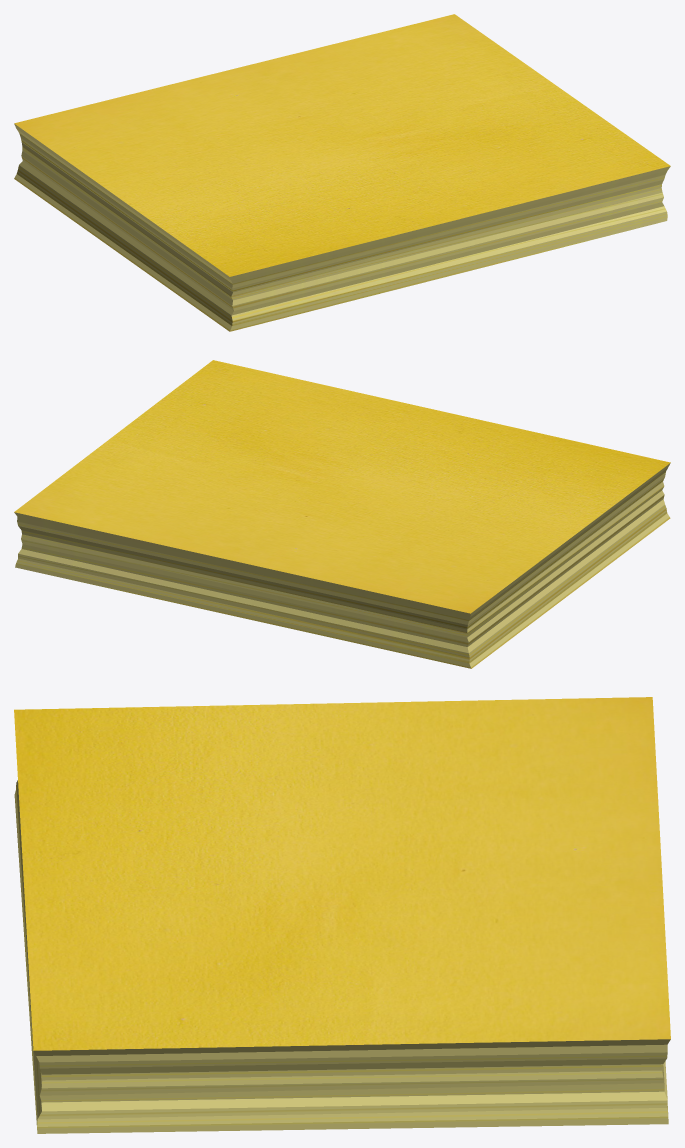
File: Postits.glb
3 renders of one model, top to bottom at view 1: azimuth 30°, elevation 25°; view 2: azimuth 150°, elevation 25°; view 3: azimuth 270°, elevation 25°, orthographic. The views are drawn at different scales.
Visible parts, largest first — view 1: Escritorio_Postits; view 2: Escritorio_Postits; view 3: Escritorio_Postits.
Boxes of the visible parts, <box> form: Escritorio_Postits: <box>14,14,670,331</box>; Escritorio_Postits: <box>14,360,670,668</box>; Escritorio_Postits: <box>14,697,670,1133</box>.
Bounding box in the file's own units: 0.0904 × 0.0118 × 0.0731.
Materials: 3 (3 with a texture image).
